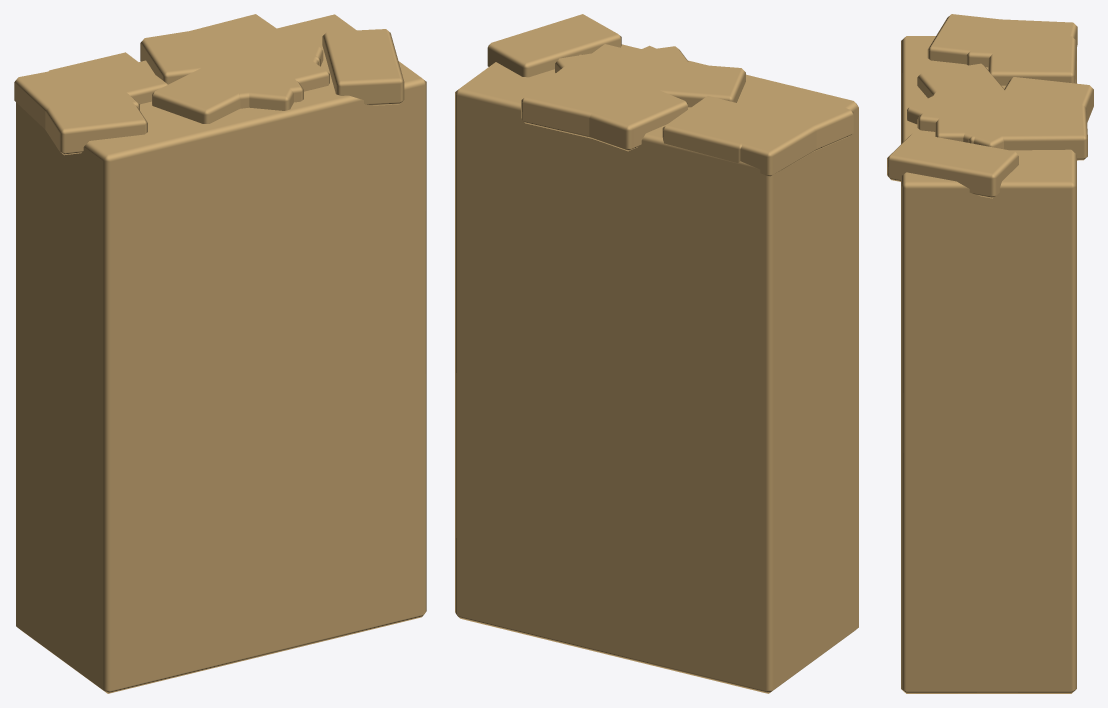
Rendered from BacksackSand2.glb.
The picture shows the model from 3 angles, left to right: view 1: azimuth 30°, elevation 25°; view 2: azimuth 150°, elevation 25°; view 3: azimuth 270°, elevation 25°; orthographic projection. The views are drawn at different scales.
Visible parts, largest first — view 1: BacksackSand2.001; view 2: BacksackSand2.001; view 3: BacksackSand2.001.
Part boxes in pixels (box(x1,y1,x2,y2)): BacksackSand2.001: box(14, 14, 426, 693); BacksackSand2.001: box(455, 14, 858, 693); BacksackSand2.001: box(887, 14, 1093, 693).
Size of the model in its own units: 0.6877 by 1.03 by 0.369.
